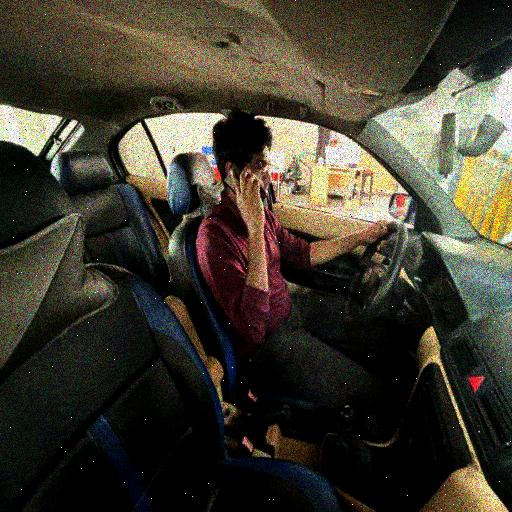Talking_on_phone: (197, 109, 392, 350)
